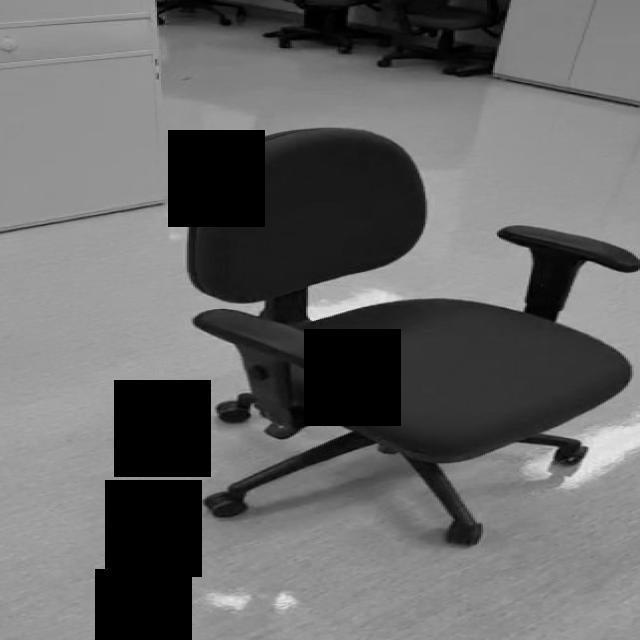chair: (185, 126, 640, 546)
